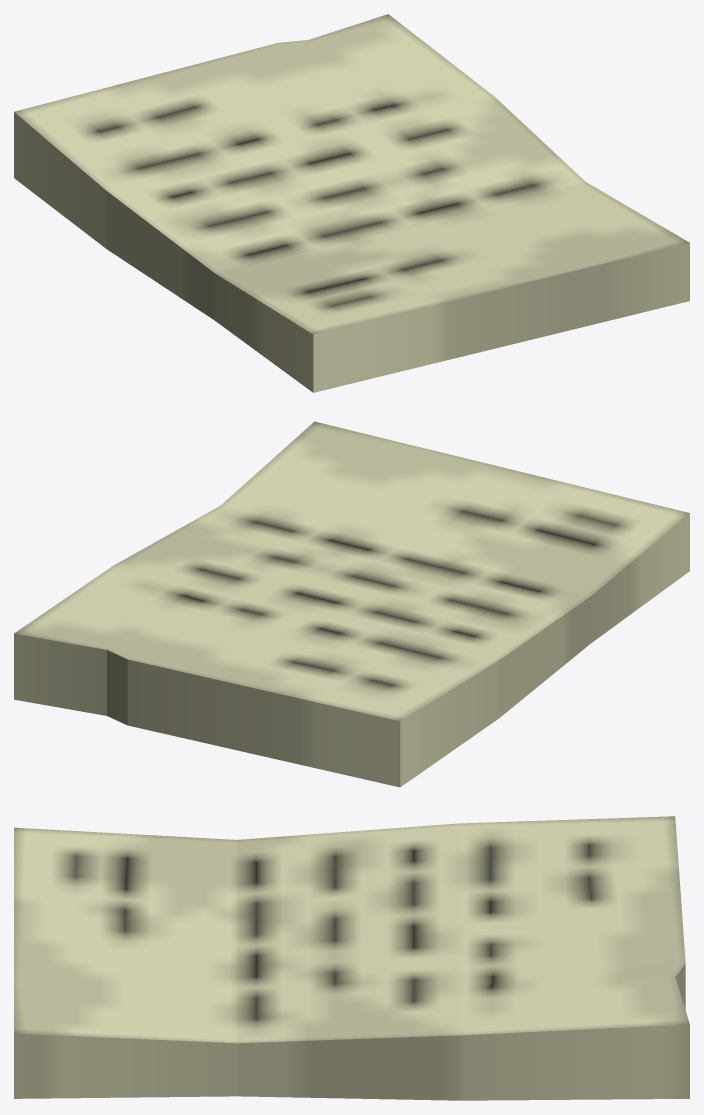
Rendered from obj_letter.fbx.
3 renders of one model, top to bottom at view 1: azimuth 30°, elevation 25°; view 2: azimuth 150°, elevation 25°; view 3: azimuth 270°, elevation 25°, orthographic. The views are drawn at different scales.
Visible parts, largest first — view 1: obj_Letter; view 2: obj_Letter; view 3: obj_Letter.
Part boxes in pixels (x1,y1,x2,y2): obj_Letter: (14,14,689,392); obj_Letter: (14,421,689,787); obj_Letter: (14,816,689,1100).
Bounding box in the file's own units: 27.3 × 4.46 × 36.79.
